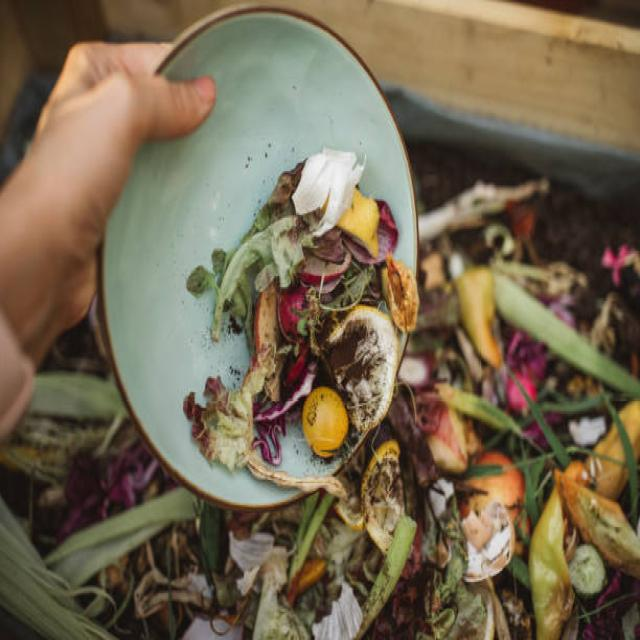trash: (1, 121, 602, 616)
